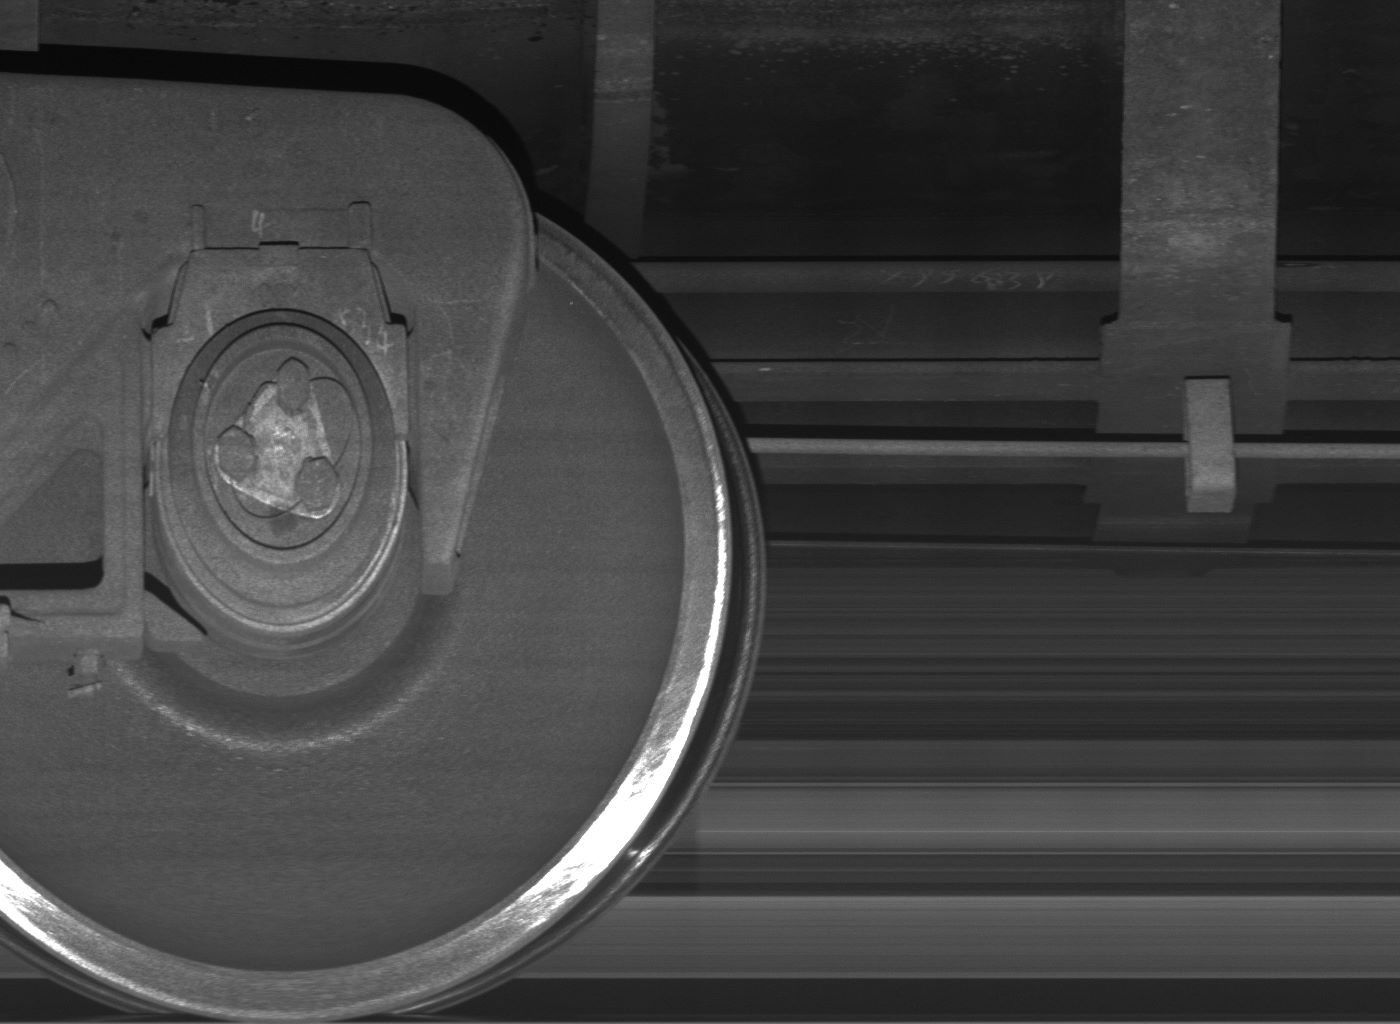normal: (1184, 378, 1238, 512)
